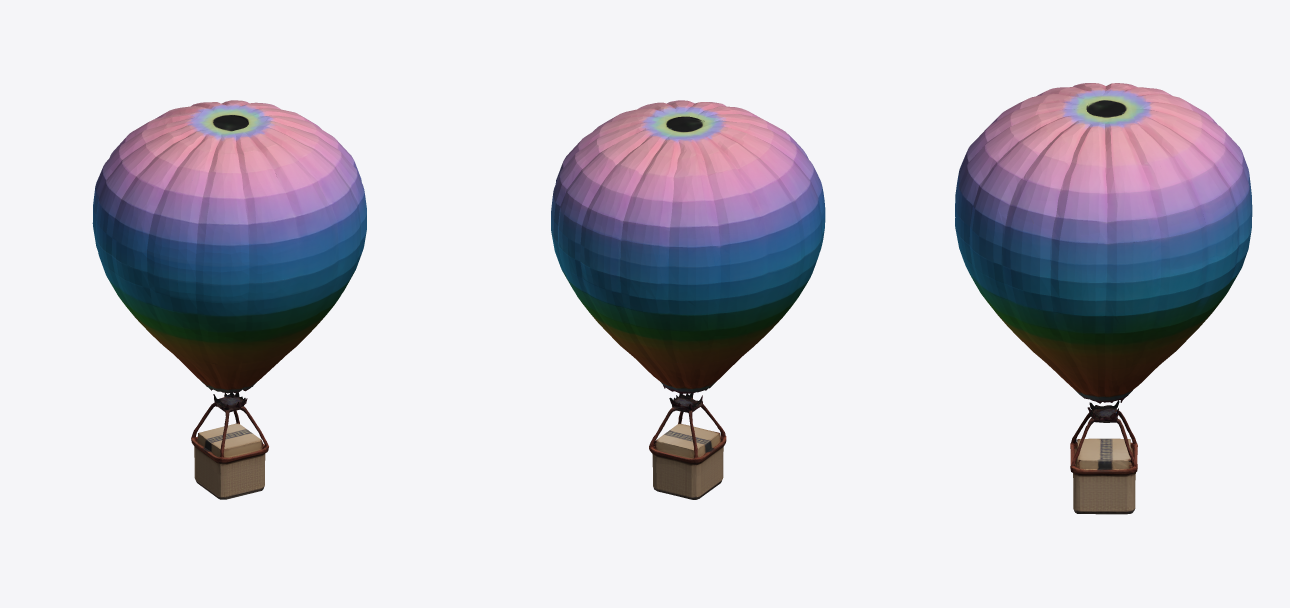
Rendered from nano3d.glb.
3 views of the same model, side by side, from view 1: azimuth 30°, elevation 25°; view 2: azimuth 150°, elevation 25°; view 3: azimuth 270°, elevation 25° (orthographic). The views are drawn at different scales.
Visible parts, largest first — view 1: world; view 2: world; view 3: world.
Boxes of the visible parts, x1,y1,x2,y2 form: world: [92, 100, 366, 499]; world: [551, 100, 825, 499]; world: [955, 83, 1252, 514].
Bounding box in the file's own units: 0.787 × 1.1 × 0.7862.
Materials: 2 (1 with a texture image).
